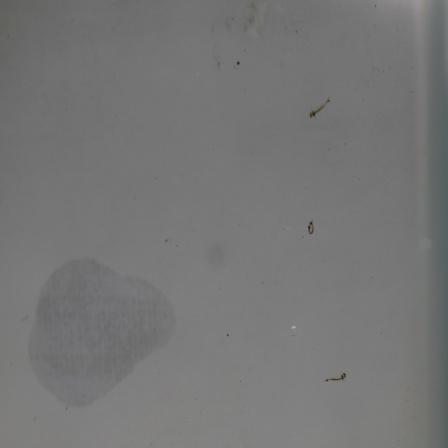Jentik-Nyamuk: (305, 94, 334, 122), (321, 369, 351, 385), (304, 216, 319, 238)
